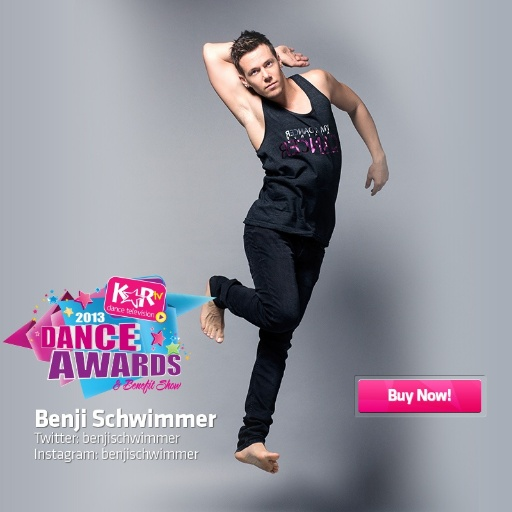hand: (364, 158, 388, 195), (273, 45, 311, 67)
